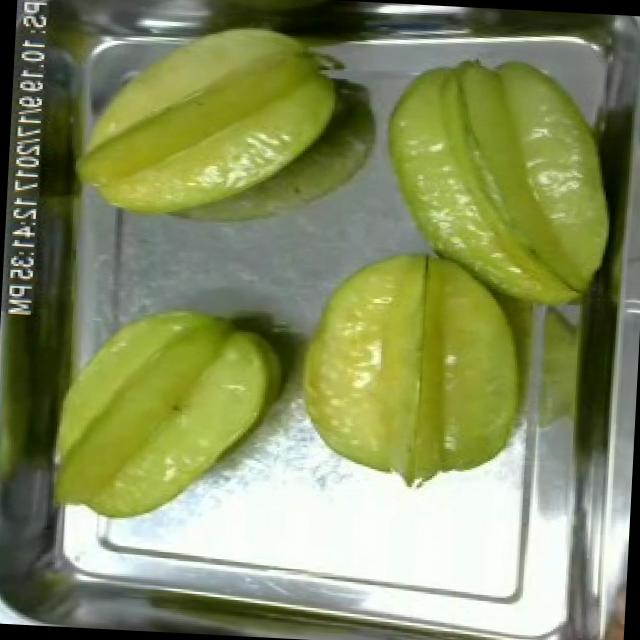fruit: (363, 40, 627, 328), (282, 226, 540, 504), (62, 2, 361, 240), (36, 286, 288, 542)
